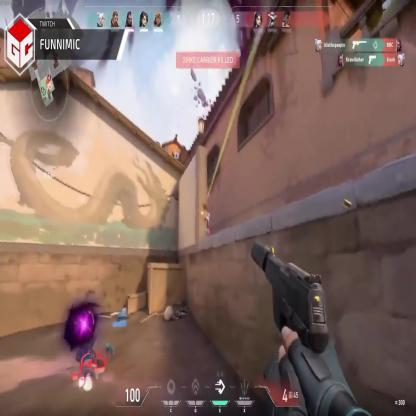enemy: (202, 206, 210, 241)
enemy_head: (203, 206, 208, 214)
